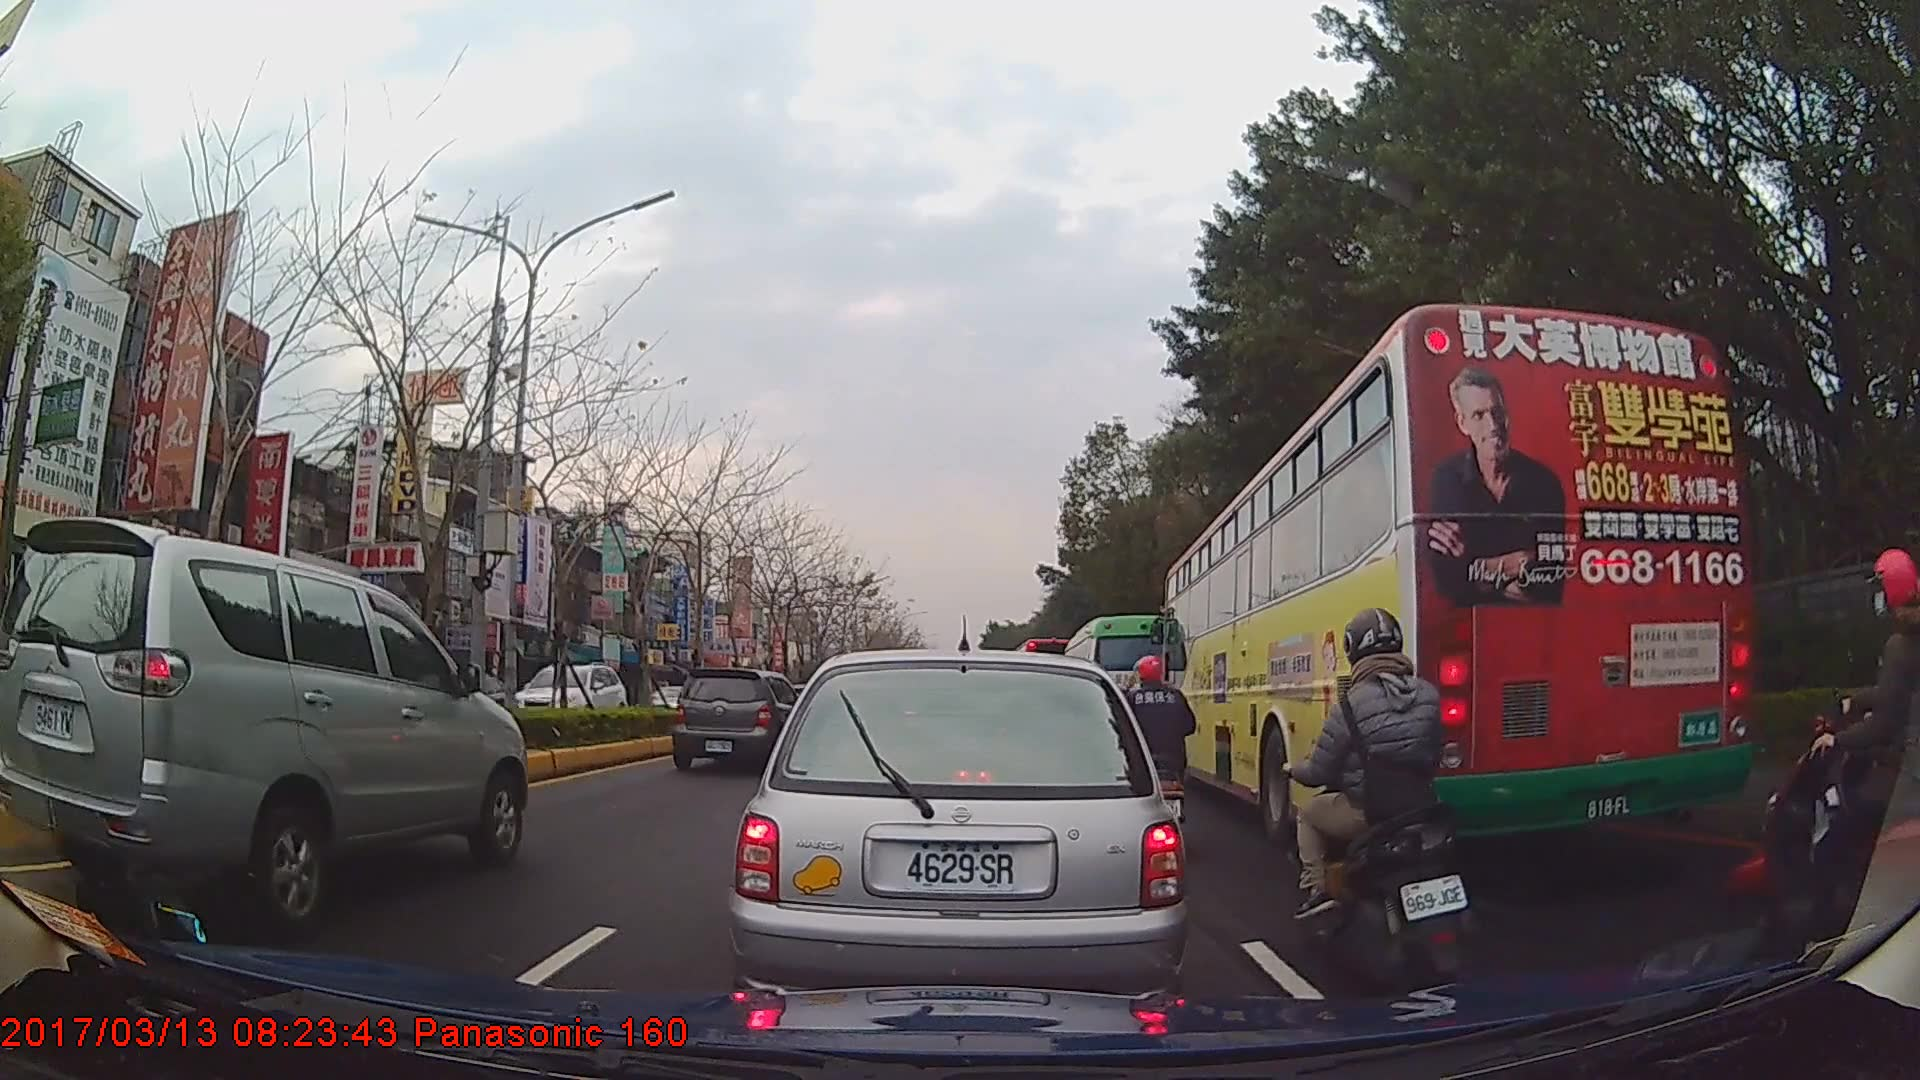rider: (1718, 552, 1915, 969), (1284, 600, 1469, 991), (1110, 654, 1197, 834)
vehicle: (1160, 300, 1757, 858), (23, 511, 529, 928), (730, 645, 1187, 1020), (1062, 613, 1193, 766), (671, 669, 801, 775), (510, 660, 628, 736)
